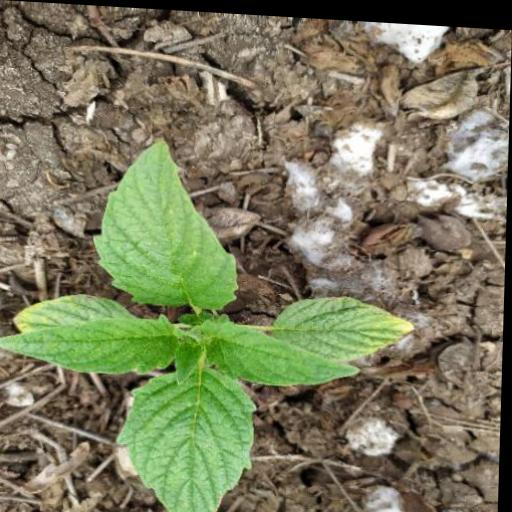crop: (0, 124, 414, 512)
